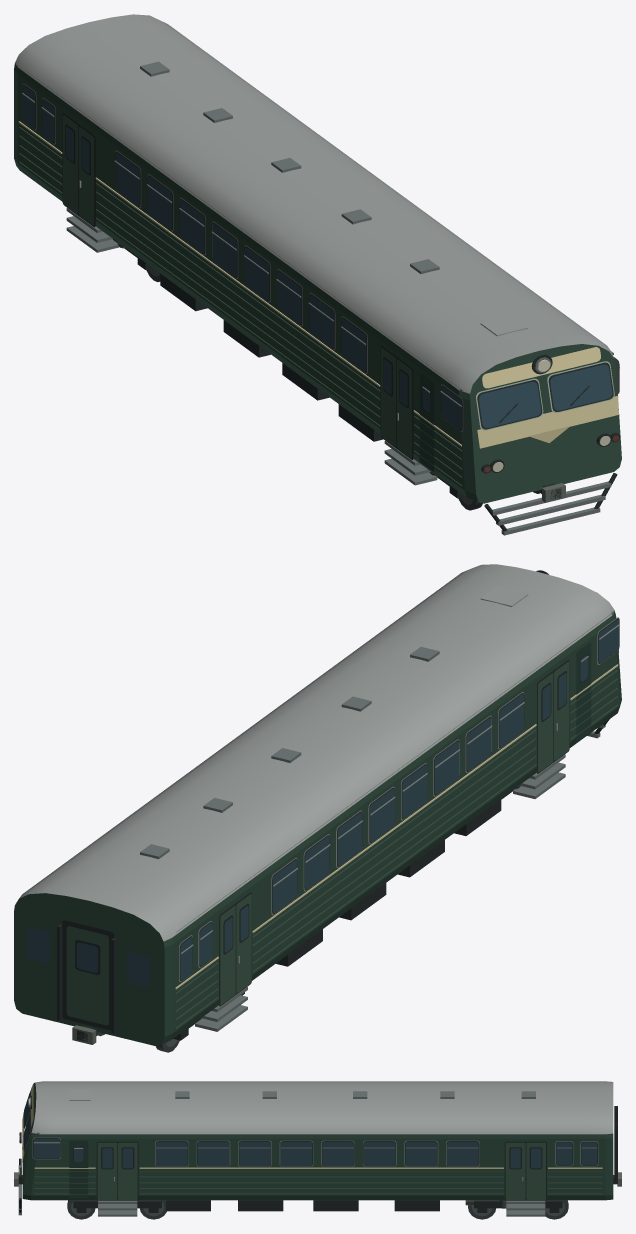
File: er2_head.glb
3 renders of one model, top to bottom at view 1: azimuth 30°, elevation 25°; view 2: azimuth 150°, elevation 25°; view 3: azimuth 270°, elevation 25°, orthographic. The views are drawn at different scales.
Visible parts, largest first — view 1: ER2_Head; view 2: ER2_Head; view 3: ER2_Head.
Part boxes in pixels (x1,y1,x2,y2): ER2_Head: (14,14,621,535); ER2_Head: (14,564,621,1052); ER2_Head: (14,1081,621,1219).
Size of the model in its own units: 4.08 by 4.31 by 20.91.
